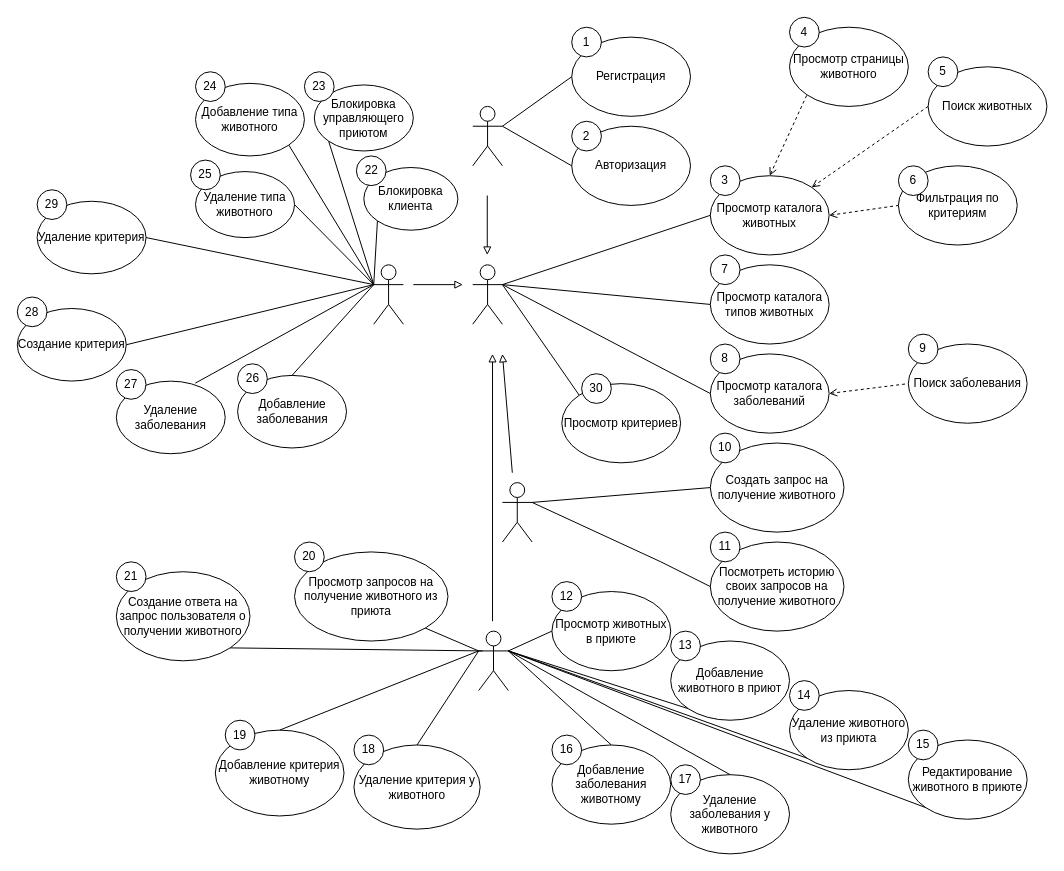
Image size: 1064x871. Some labels were removed from this diagram. Each missing label, with the centre of its shape:
"Администратор" goes at point (388, 294).
"Гость" goes at point (487, 135).
"Клиент" goes at point (516, 512).
"Пользователь" goes at point (487, 294).
"Управляющий приютом" goes at point (493, 660).
